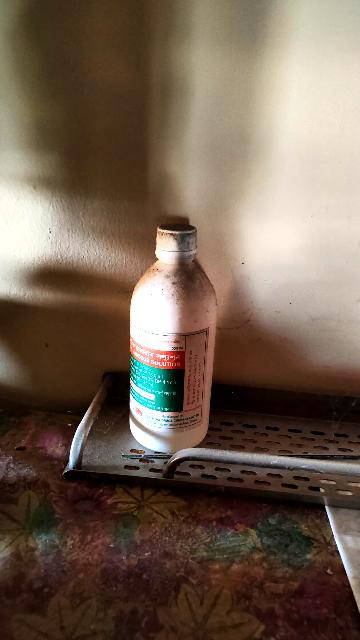bottle: (119, 228, 229, 449)
